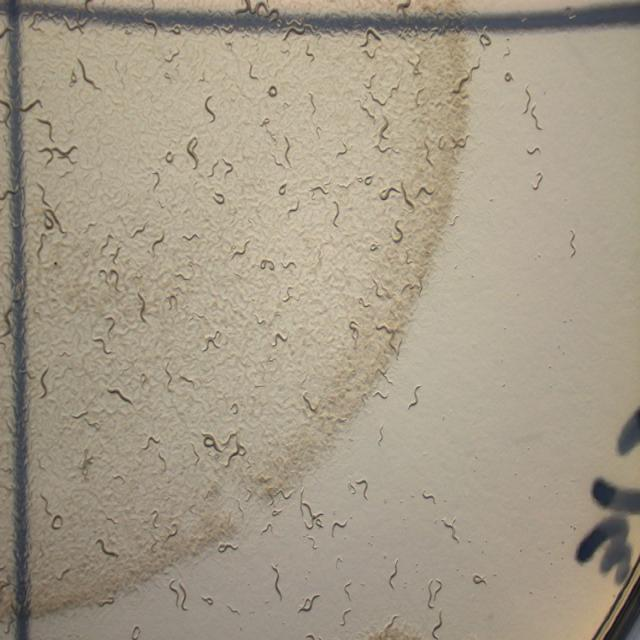filarid: (299, 489, 324, 530), (435, 517, 459, 545), (426, 576, 442, 610), (348, 477, 369, 500), (380, 614, 402, 634), (298, 592, 320, 611), (231, 239, 250, 259), (108, 388, 132, 403), (261, 117, 276, 140), (388, 559, 399, 590), (408, 384, 421, 410), (430, 612, 442, 638), (331, 519, 349, 536), (94, 337, 111, 354), (273, 566, 282, 598), (141, 435, 160, 450), (421, 489, 436, 505), (284, 132, 291, 166), (342, 581, 352, 602), (260, 257, 275, 270), (531, 172, 542, 189), (288, 199, 299, 214), (139, 294, 145, 321), (569, 230, 575, 256), (106, 317, 115, 334), (471, 574, 486, 584), (223, 158, 232, 174), (279, 180, 288, 195), (341, 609, 349, 625), (282, 260, 295, 269), (375, 390, 388, 398), (378, 425, 382, 445), (309, 536, 316, 547), (159, 455, 165, 461)
